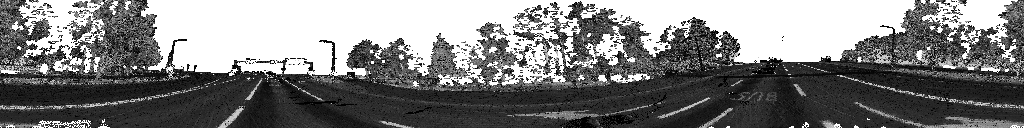gantry_sign_pole: (231, 58, 314, 74)
light_pole: (319, 41, 343, 85), (161, 40, 186, 79), (880, 27, 894, 70)
